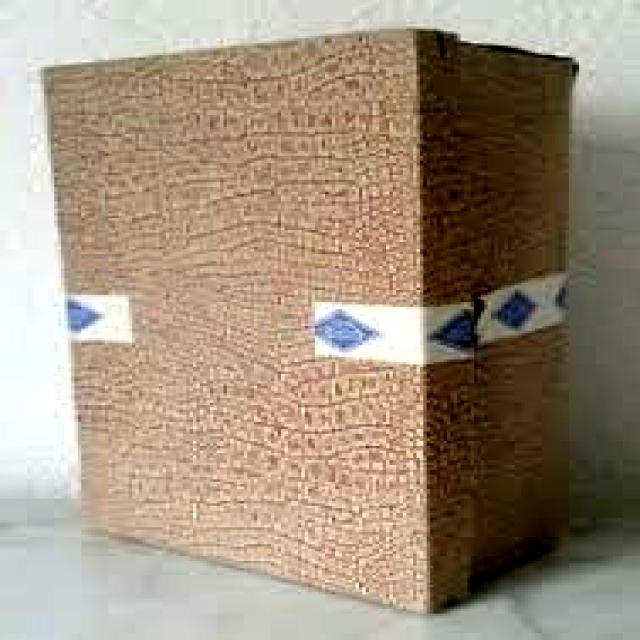Paper: (34, 31, 585, 616)
